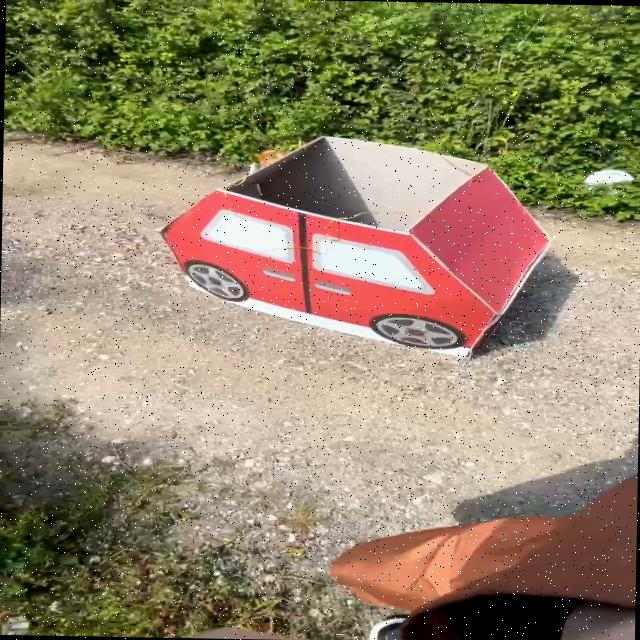red_car: (138, 123, 563, 386)
